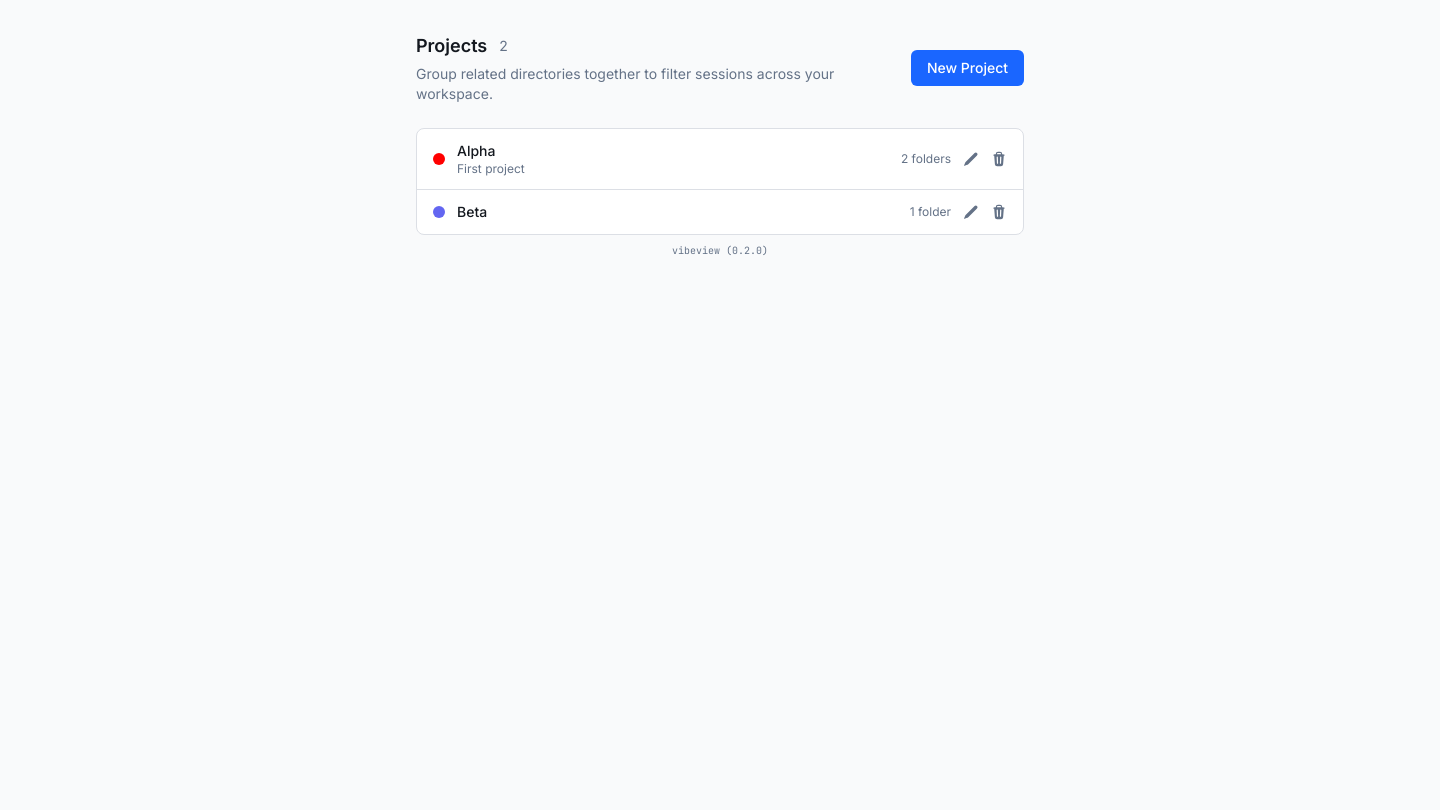
ProjectList › opens edit dialog when edit button clicked
Step 1. Click the button named "Edit Alpha" → [971, 159], box [963,151,979,167]
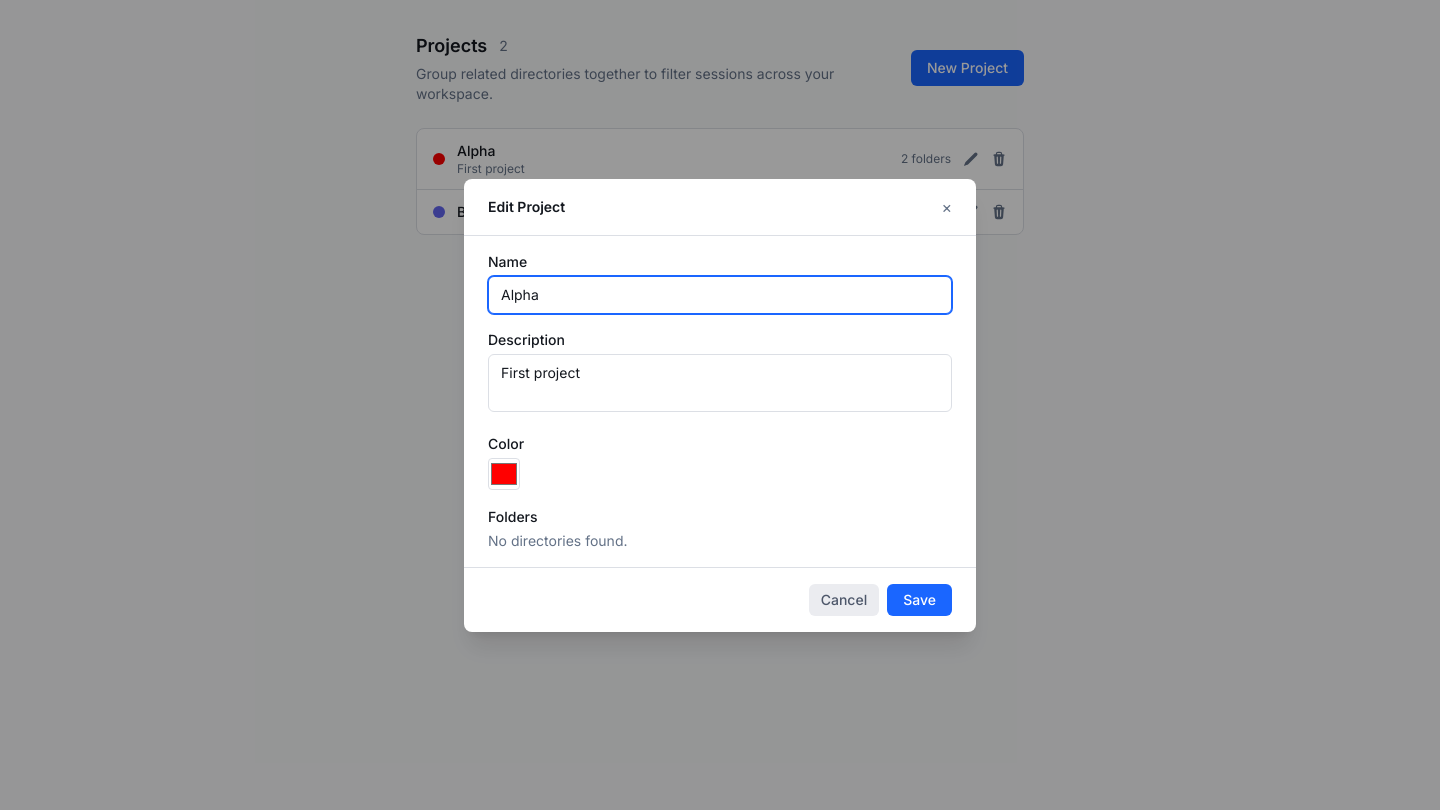
Now the heading "Edit Project" is shown, box [488,196,565,216]
